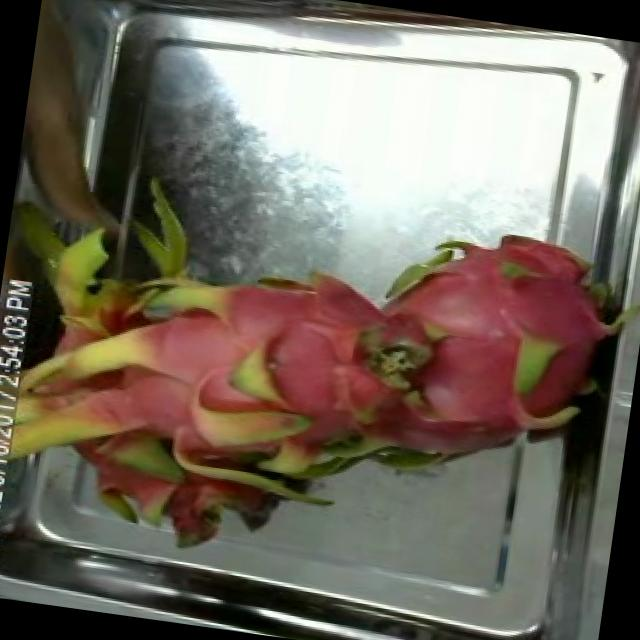Fruit: (148, 358, 326, 486)
